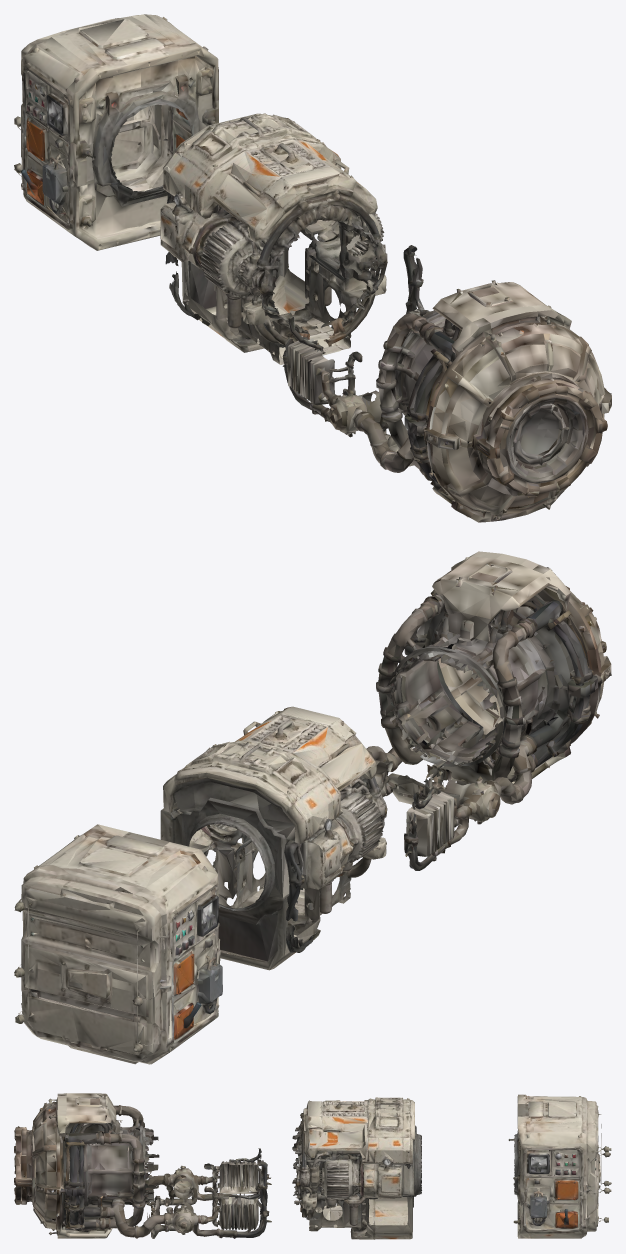
Rendered from 能源装置_Low.glb.
The picture shows the model from 3 angles, top to bottom: view 1: azimuth 30°, elevation 25°; view 2: azimuth 150°, elevation 25°; view 3: azimuth 270°, elevation 25°; orthographic projection. The views are drawn at different scales.
Visible parts, largest first — view 1: tripo_part_3, tripo_part_1, tripo_part_4; view 2: tripo_part_3, tripo_part_4, tripo_part_1; view 3: tripo_part_3, tripo_part_1, tripo_part_4, tripo_part_5, tripo_part_7.
Part boxes in pixels (left/top/right/bottom): tripo_part_3: left=282, top=245, right=611, bottom=522; tripo_part_1: left=160, top=113, right=387, bottom=364; tripo_part_4: left=14, top=14, right=218, bottom=250; tripo_part_3: left=361, top=551, right=611, bottom=870; tripo_part_4: left=14, top=824, right=222, bottom=1064; tripo_part_1: left=160, top=706, right=387, bottom=970; tripo_part_3: left=14, top=1093, right=271, bottom=1238; tripo_part_1: left=292, top=1097, right=421, bottom=1239; tripo_part_4: left=508, top=1094, right=611, bottom=1238; tripo_part_5: left=304, top=1151, right=360, bottom=1198; tripo_part_7: left=344, top=1192, right=365, bottom=1225.
Bounding box in the file's own units: 0.3698 × 0.3948 × 1.64.
13 materials, 13 textured.
